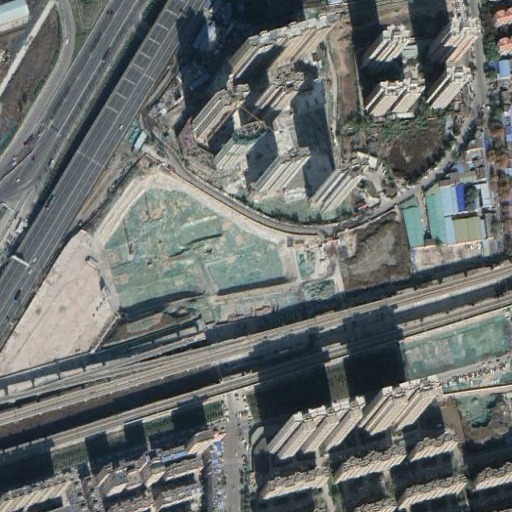cw: (107, 190, 339, 309), (402, 314, 512, 384)
